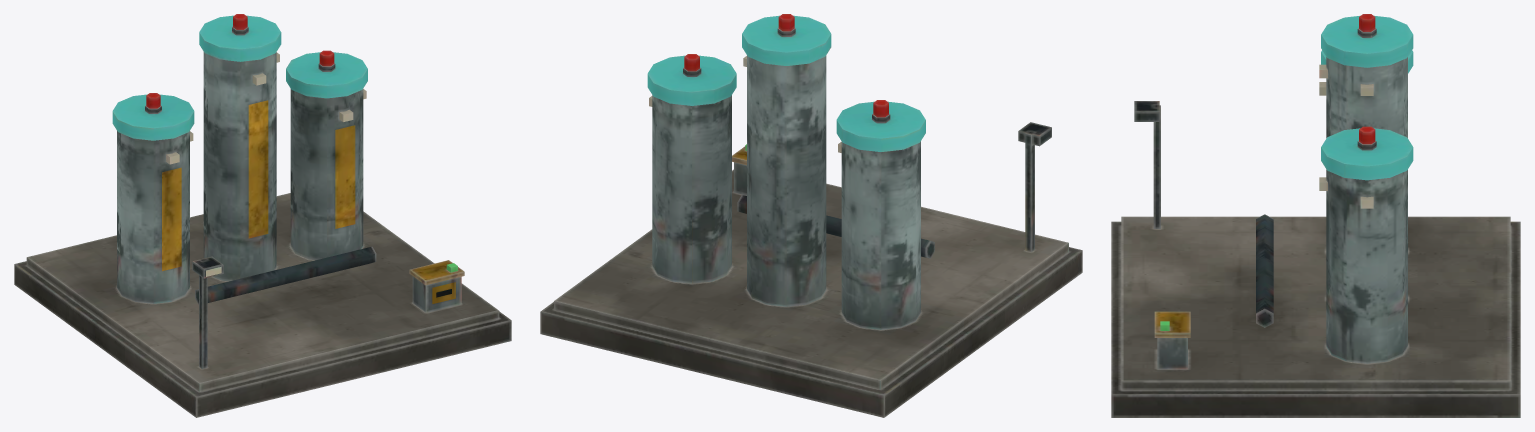
Rendered from atmospheric_processor.glb.
3 views of the same model, side by side, from view 1: azimuth 30°, elevation 25°; view 2: azimuth 150°, elevation 25°; view 3: azimuth 270°, elevation 25° (orthographic). The views are drawn at different scales.
Visible parts, largest first — view 1: te_atmospheric_processor; view 2: te_atmospheric_processor; view 3: te_atmospheric_processor.
Part boxes in pixels (x1=…): te_atmospheric_processor: x1=14, y1=14, x2=511, y2=417; te_atmospheric_processor: x1=540, y1=14, x2=1082, y2=417; te_atmospheric_processor: x1=1111, y1=14, x2=1520, y2=417.
Bounding box in the file's own units: 0.8 × 0.6776 × 0.8.
1 material, 1 textured.
